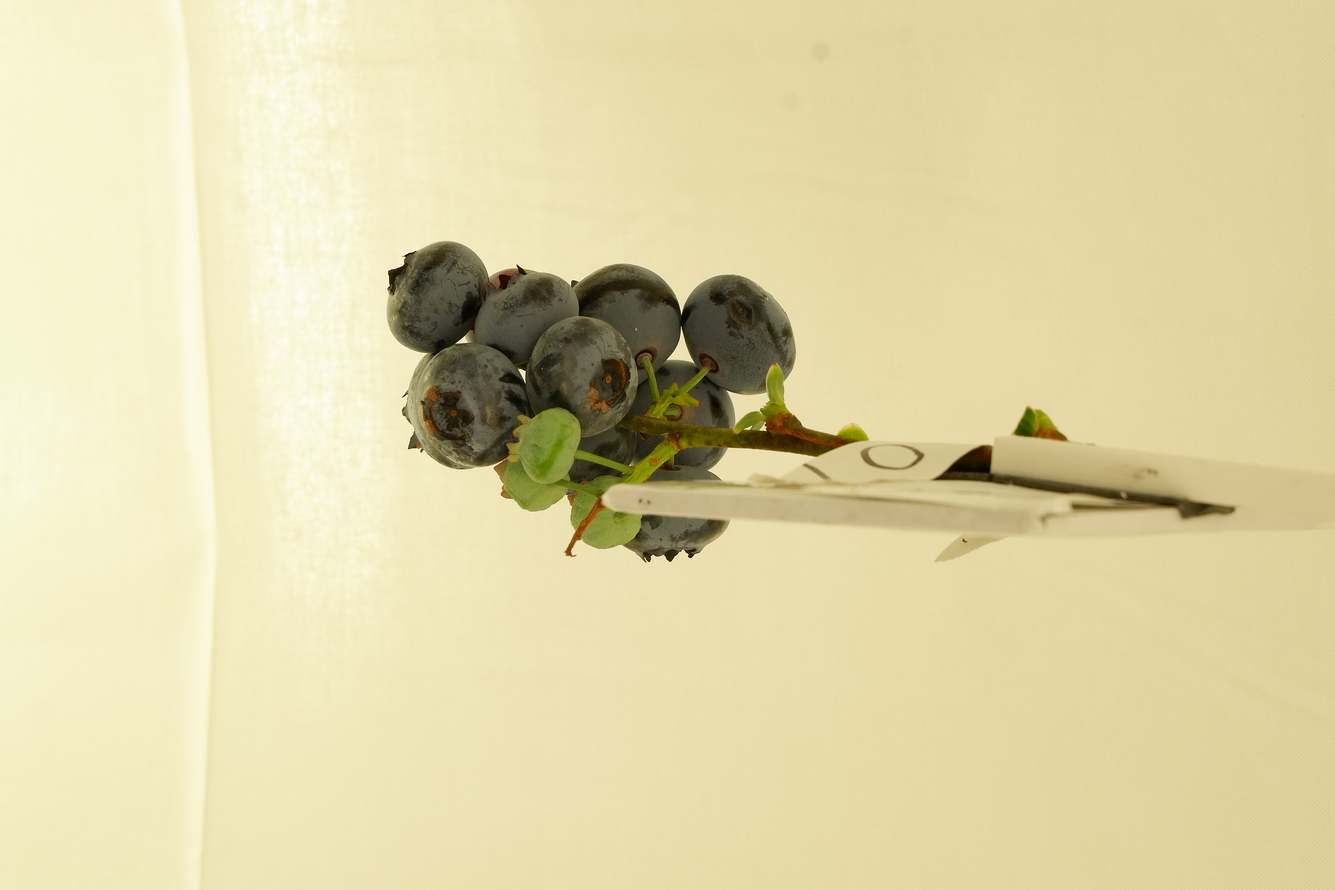Immature: (465, 263, 537, 344), (505, 408, 580, 484), (567, 476, 642, 550), (494, 459, 570, 512)
Mature: (417, 344, 531, 468), (681, 274, 796, 396), (526, 316, 639, 438), (573, 263, 681, 385), (626, 360, 736, 471), (386, 241, 488, 354), (473, 264, 579, 366), (622, 465, 731, 564), (402, 353, 474, 470), (566, 416, 637, 495)
